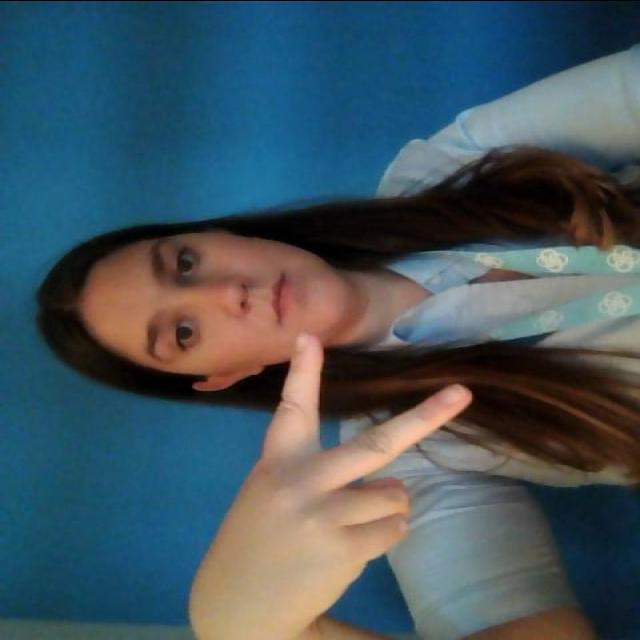Scissors: (177, 315, 483, 636)
